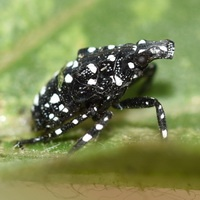insect: (15, 40, 174, 149)
